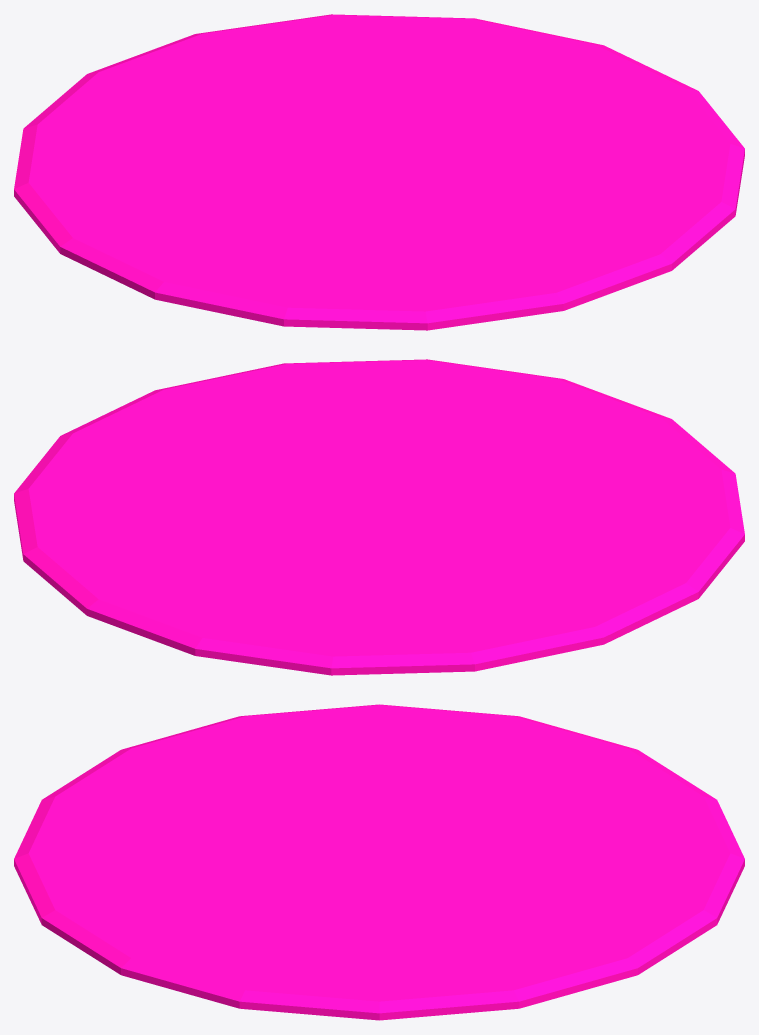
The model's file is BasePlatform.006.glb.
3 renders of one model, top to bottom at view 1: azimuth 30°, elevation 25°; view 2: azimuth 150°, elevation 25°; view 3: azimuth 270°, elevation 25°, orthographic.
Parts seen in each view (by area): view 1: BasePlatform.006; view 2: BasePlatform.006; view 3: BasePlatform.006.
Boxes of the visible parts, <box> form: BasePlatform.006: <box>14,14,744,330</box>; BasePlatform.006: <box>14,359,744,675</box>; BasePlatform.006: <box>14,704,744,1020</box>.
Size of what is drawn, in the model's own units: 4.06 by 0.0778 by 4.06.
1 material, 1 textured.
